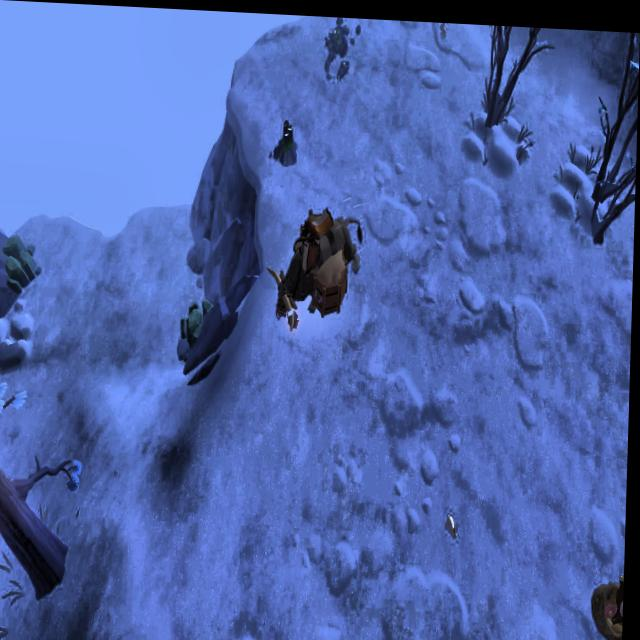ore_t3: (280, 111, 296, 152)
rock_t3: (6, 226, 43, 301), (177, 289, 220, 352)
